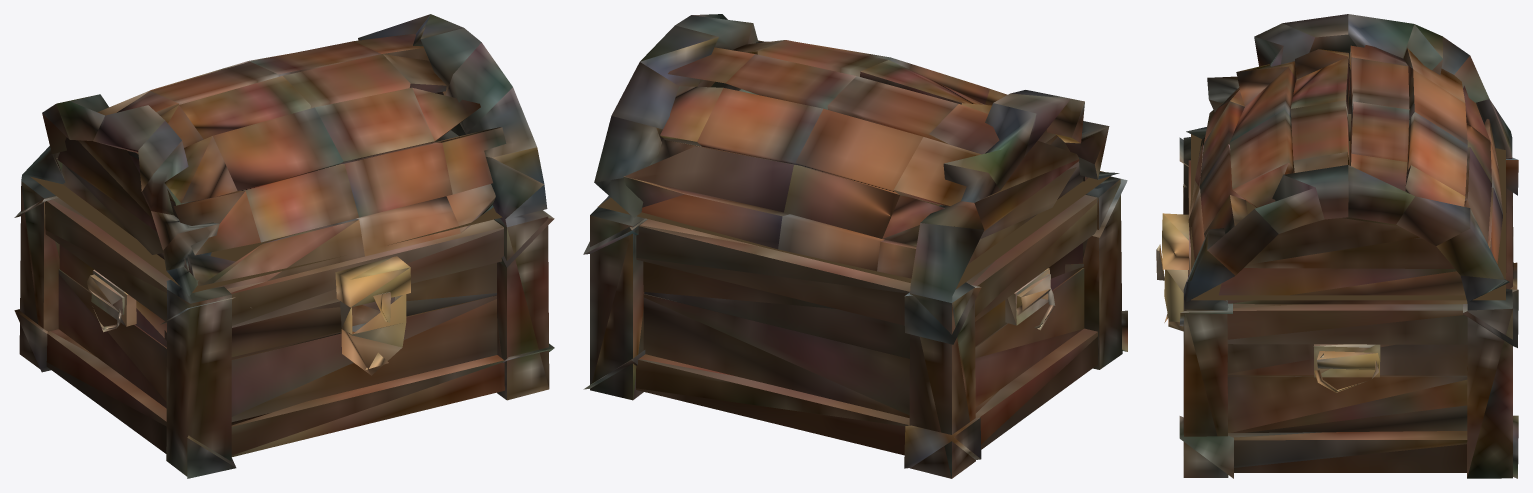
File: chest.lod2.glb
3 renders of one model, left to right at view 1: azimuth 30°, elevation 25°; view 2: azimuth 150°, elevation 25°; view 3: azimuth 270°, elevation 25°, orthographic. The views are drawn at different scales.
Visible parts, largest first — view 1: Frame, Lid; view 2: Frame, Lid; view 3: Lid, Frame.
Boxes of the visible parts, x1,y1,x2,y2 form: Frame: (14, 175, 554, 478); Lid: (22, 14, 547, 296); Frame: (583, 176, 1127, 478); Lid: (594, 14, 1119, 295); Lid: (1186, 14, 1510, 302); Frame: (1156, 133, 1518, 478).
Bounding box in the file's own units: 0.768 × 0.6 × 0.672.
1 material, 1 textured.
